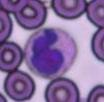N: (23, 27, 78, 79)
